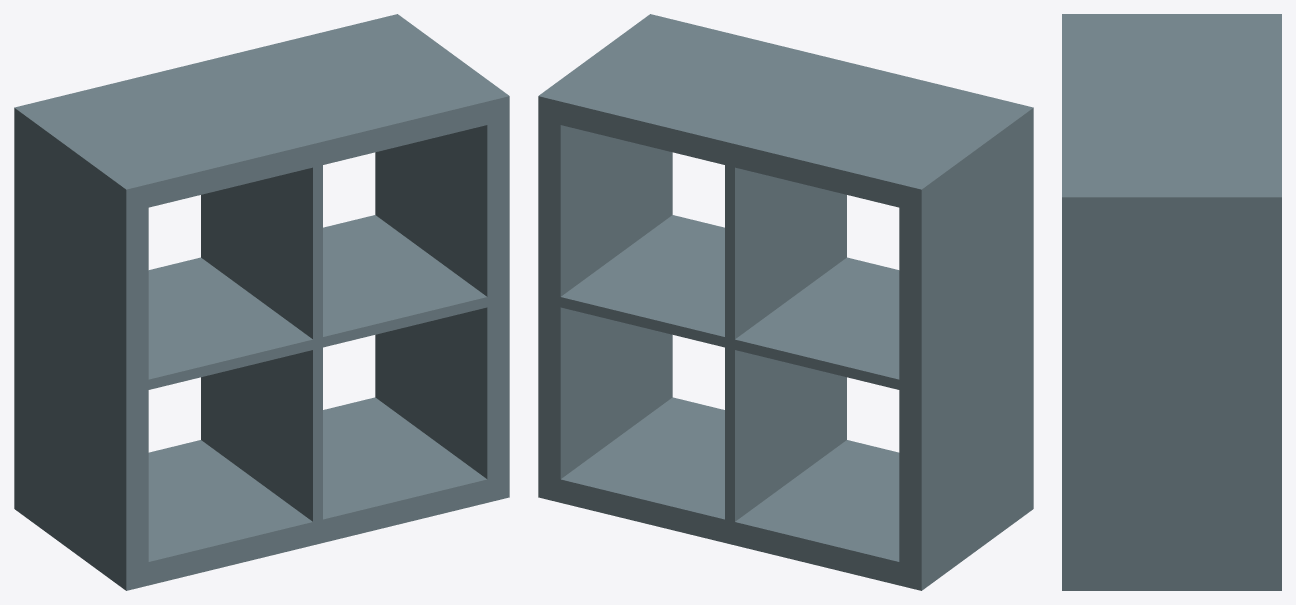
The model's file is step-7.obj.
3 renders of one model, left to right at view 1: azimuth 30°, elevation 25°; view 2: azimuth 150°, elevation 25°; view 3: azimuth 270°, elevation 25°, orthographic.
Parts seen in each view (by area): view 1: IKE170029; view 2: IKE170029; view 3: IKE170029.
Part boxes in pixels (x1,y1,x2,y2): IKE170029: [14, 14, 509, 590]; IKE170029: [538, 14, 1033, 590]; IKE170029: [1062, 14, 1281, 590].
Size of the model in its own units: 0.77 by 0.77 by 0.39.
